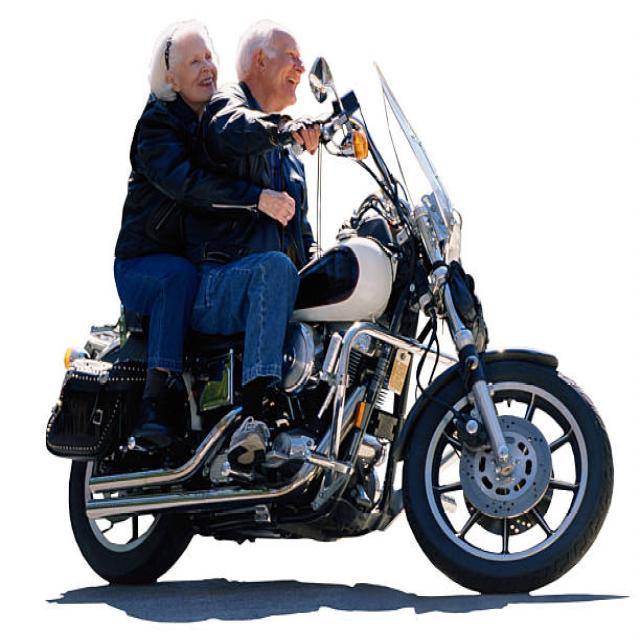No-Helmet: (142, 14, 224, 111), (234, 13, 307, 112)
